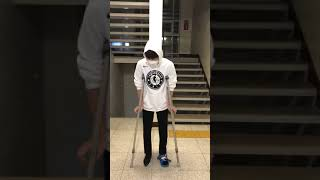crutches: (131, 39, 180, 167)
